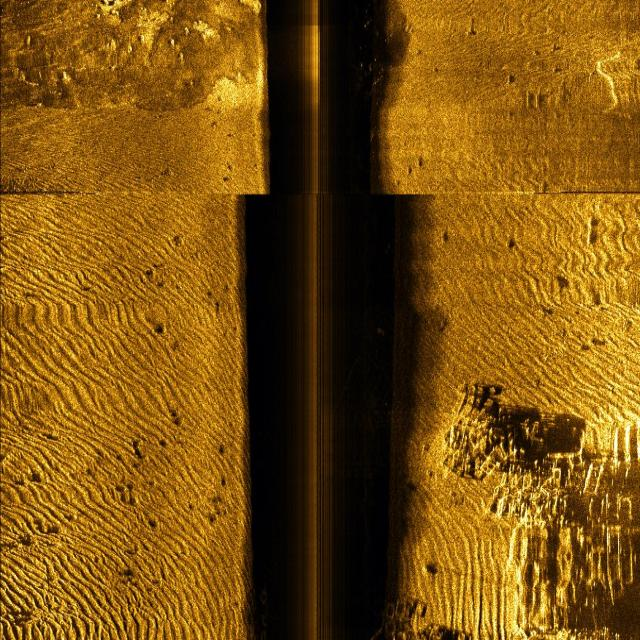artificial reef: (442, 394, 548, 520), (374, 581, 433, 640), (255, 557, 279, 640)
